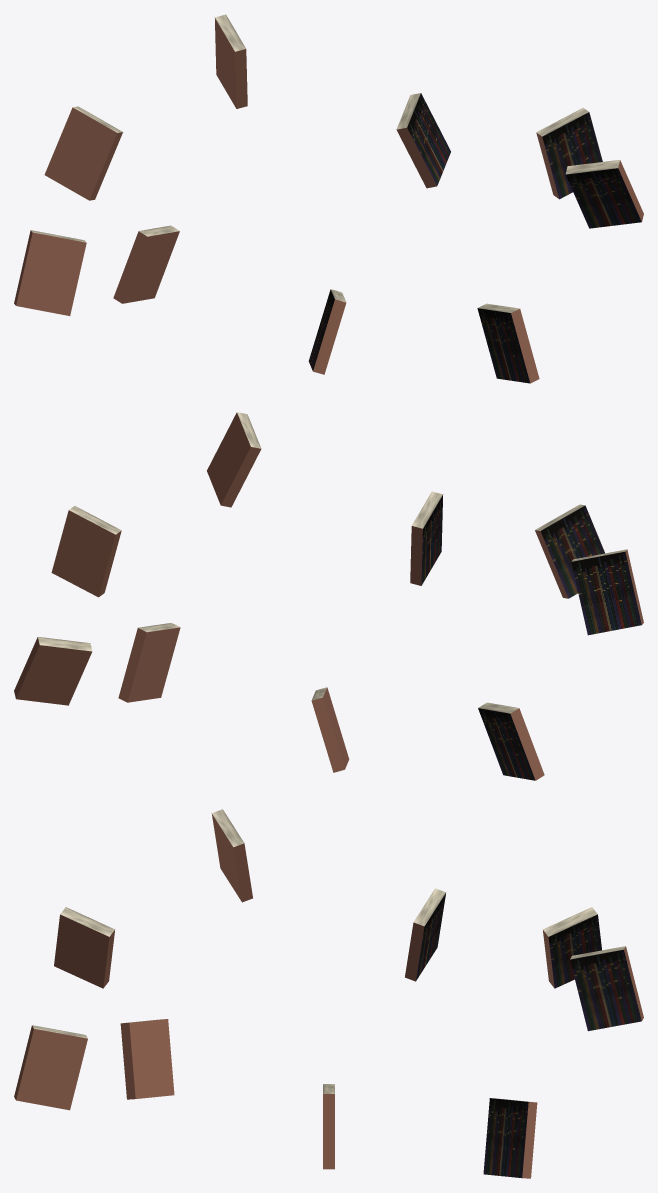
Rendered from books_ring.glb.
3 renders of one model, top to bottom at view 1: azimuth 30°, elevation 25°; view 2: azimuth 150°, elevation 25°; view 3: azimuth 270°, elevation 25°, orthographic.
Parts seen in each view (by area): view 1: books_ring; view 2: books_ring; view 3: books_ring.
Part boxes in pixels (box(x1,y1,x2,y2)): books_ring: box(14, 14, 643, 383); books_ring: box(14, 412, 643, 780); books_ring: box(14, 809, 643, 1178).
Bounding box in the file's own units: 3.09 × 0.8766 × 3.12.
3 materials, 2 textured.
